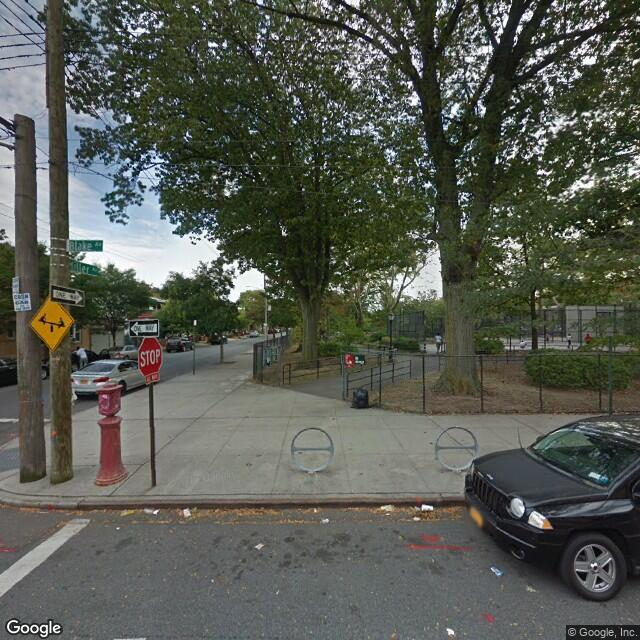litter: (490, 566, 506, 576), (145, 507, 159, 518), (179, 508, 192, 517), (422, 502, 433, 512), (253, 542, 265, 551), (409, 514, 422, 521), (309, 508, 320, 515), (323, 519, 331, 525), (114, 526, 120, 529)
